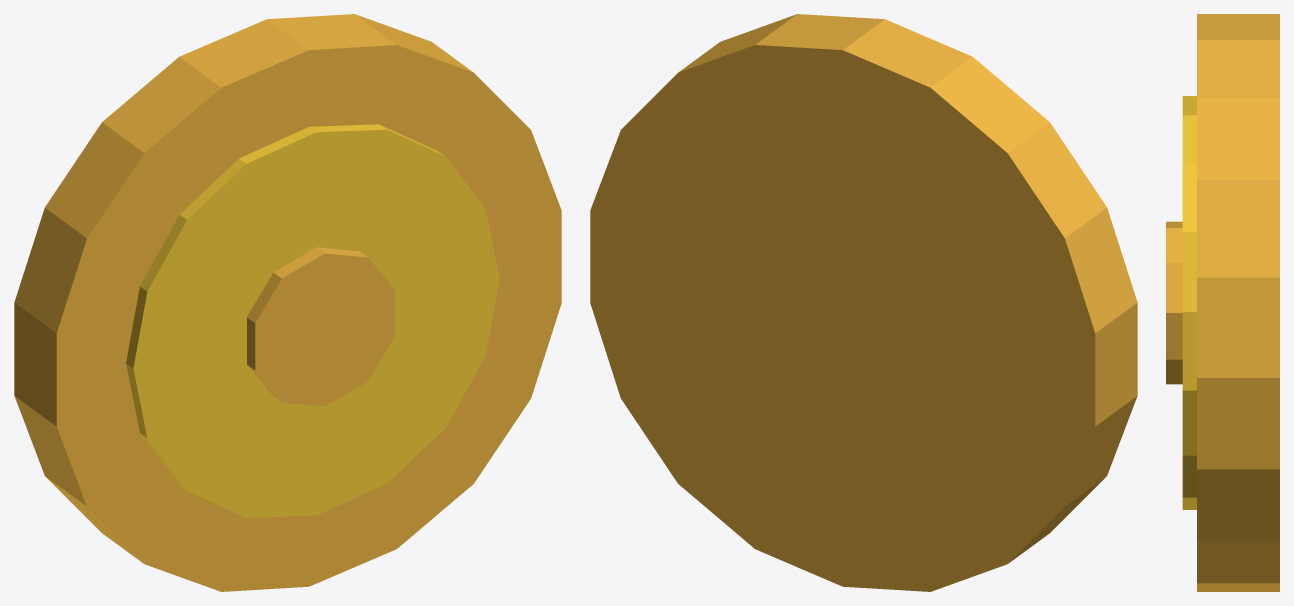
File: icon_coin.glb
3 renders of one model, left to right at view 1: azimuth 30°, elevation 25°; view 2: azimuth 150°, elevation 25°; view 3: azimuth 270°, elevation 25°, orthographic. The views are drawn at different scales.
Visible parts, largest first — view 1: icon_coin; view 2: icon_coin; view 3: icon_coin.
Part boxes in pixels (<box>): icon_coin: <box>14,14,561,591</box>; icon_coin: <box>590,14,1137,591</box>; icon_coin: <box>1166,14,1279,591</box>.
Size of the model in its own units: 0.2757 by 0.28 by 0.055.
1 material, 1 textured.
